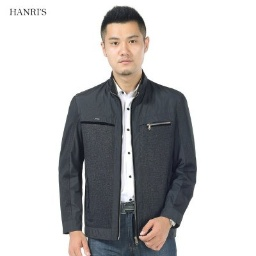face: (99, 5, 151, 77)
